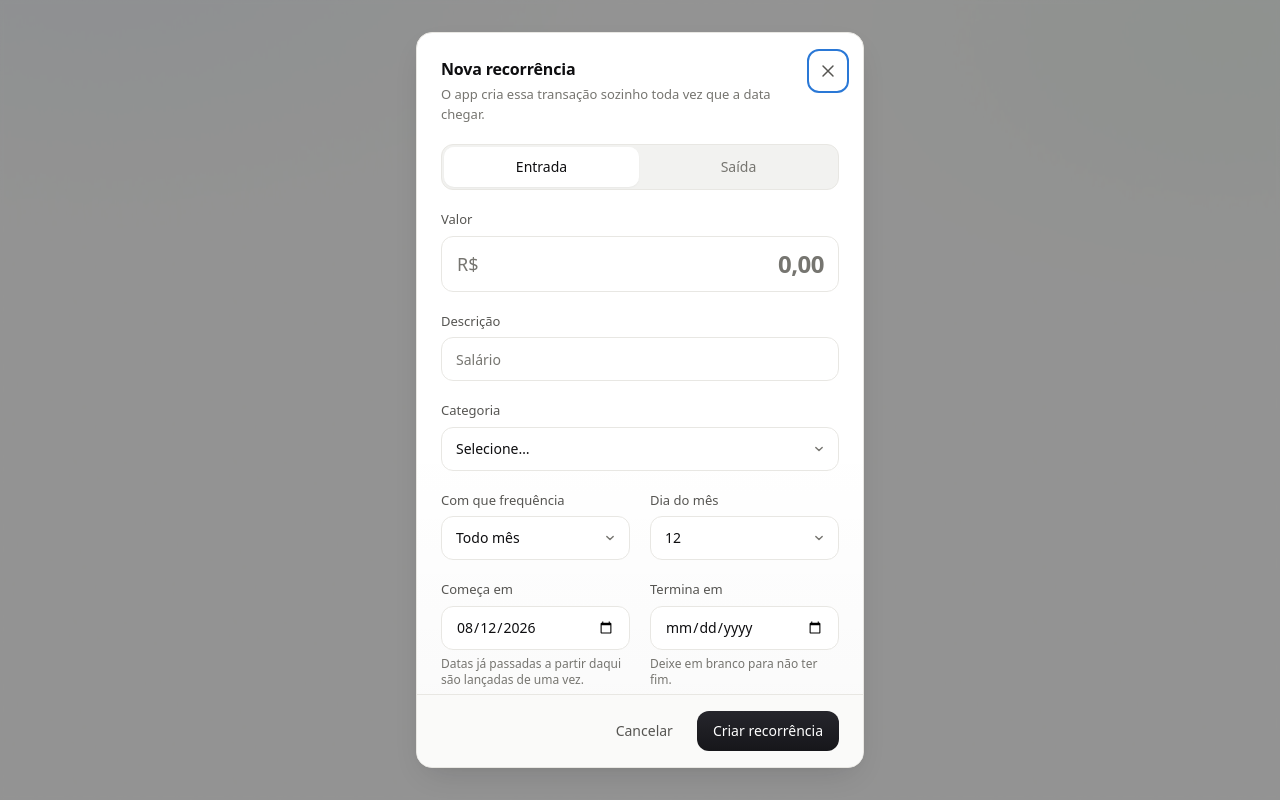
Test: diálogo de recorrência › recusa data final anterior ao início
Type "10000" into the field labelled "Valor".
click(640, 264); type("10000")  # box [441,236,839,292]
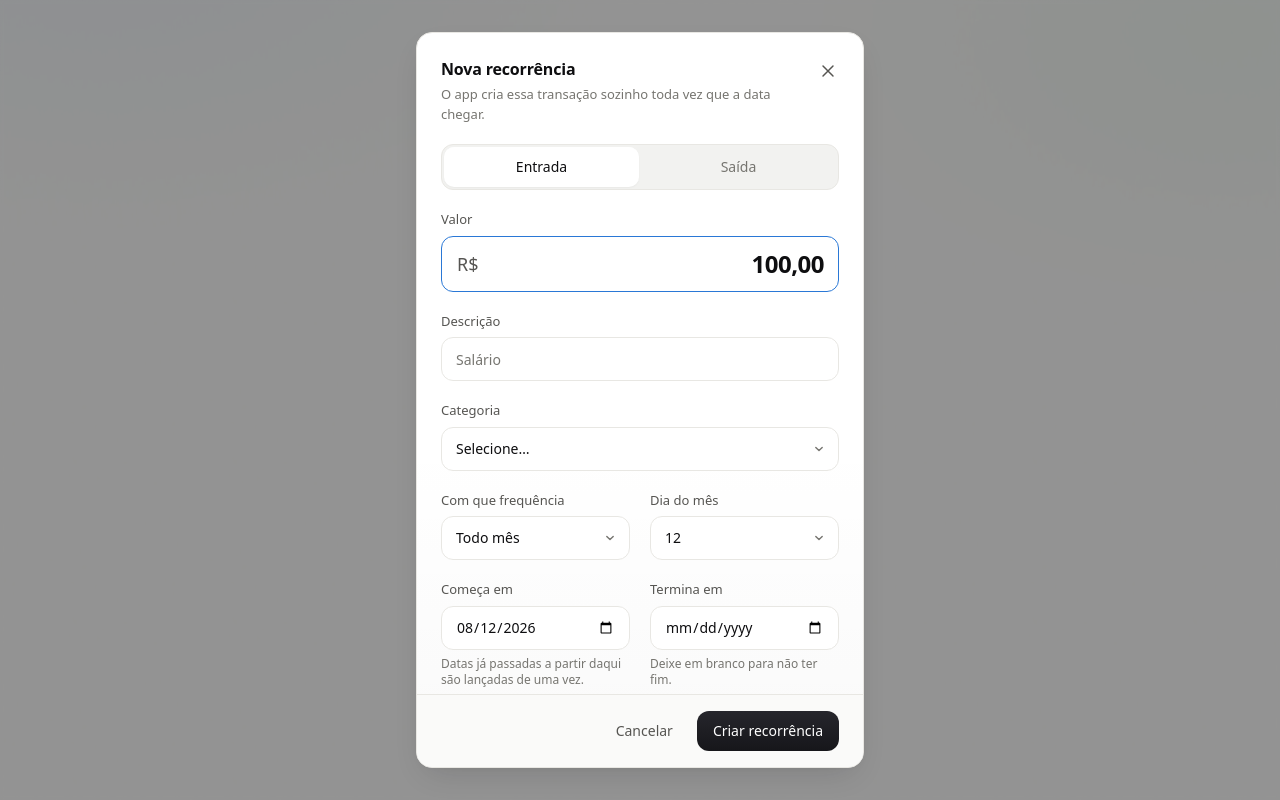
Type "Aluguel" into the field labelled "Descrição".
click(640, 359); type("Aluguel")  # box [441,337,839,381]
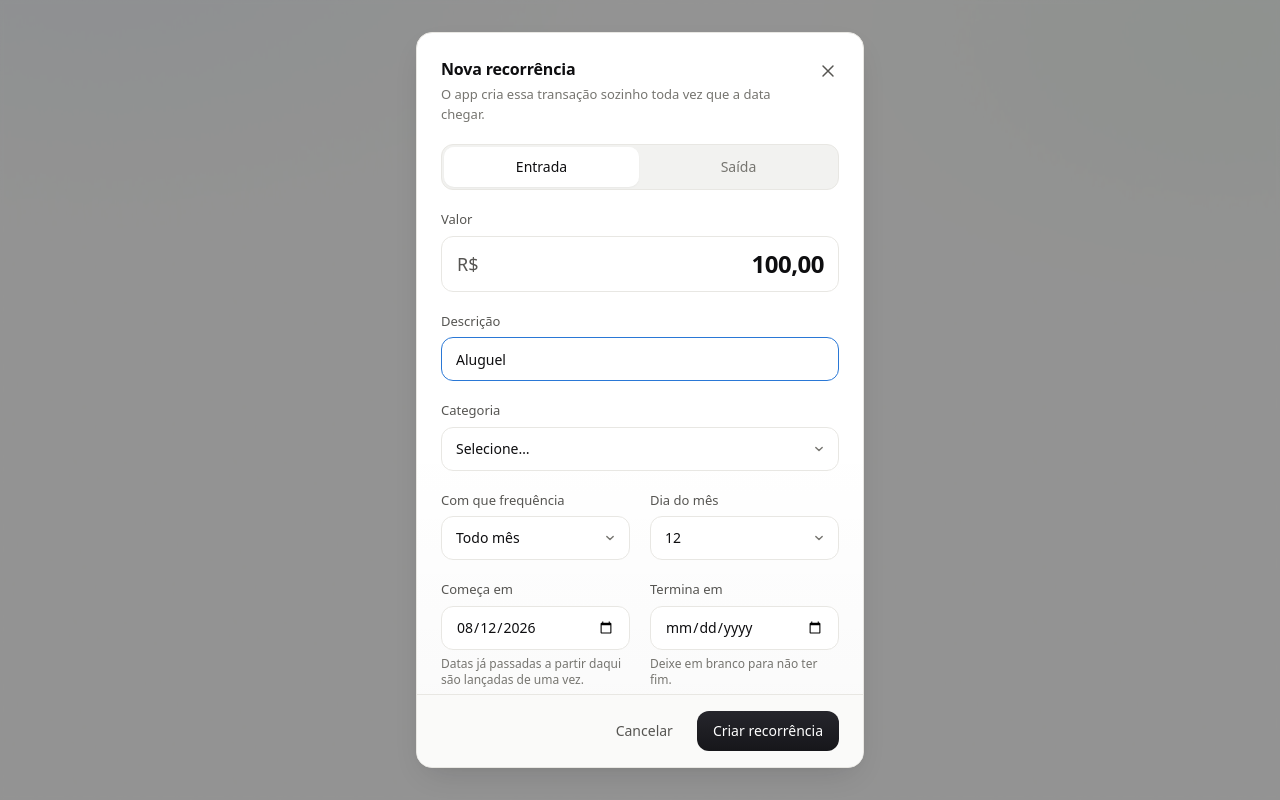
Select "Salário" in the dropdown labelled "Categoria" at [640, 448], box [441,426,839,470]
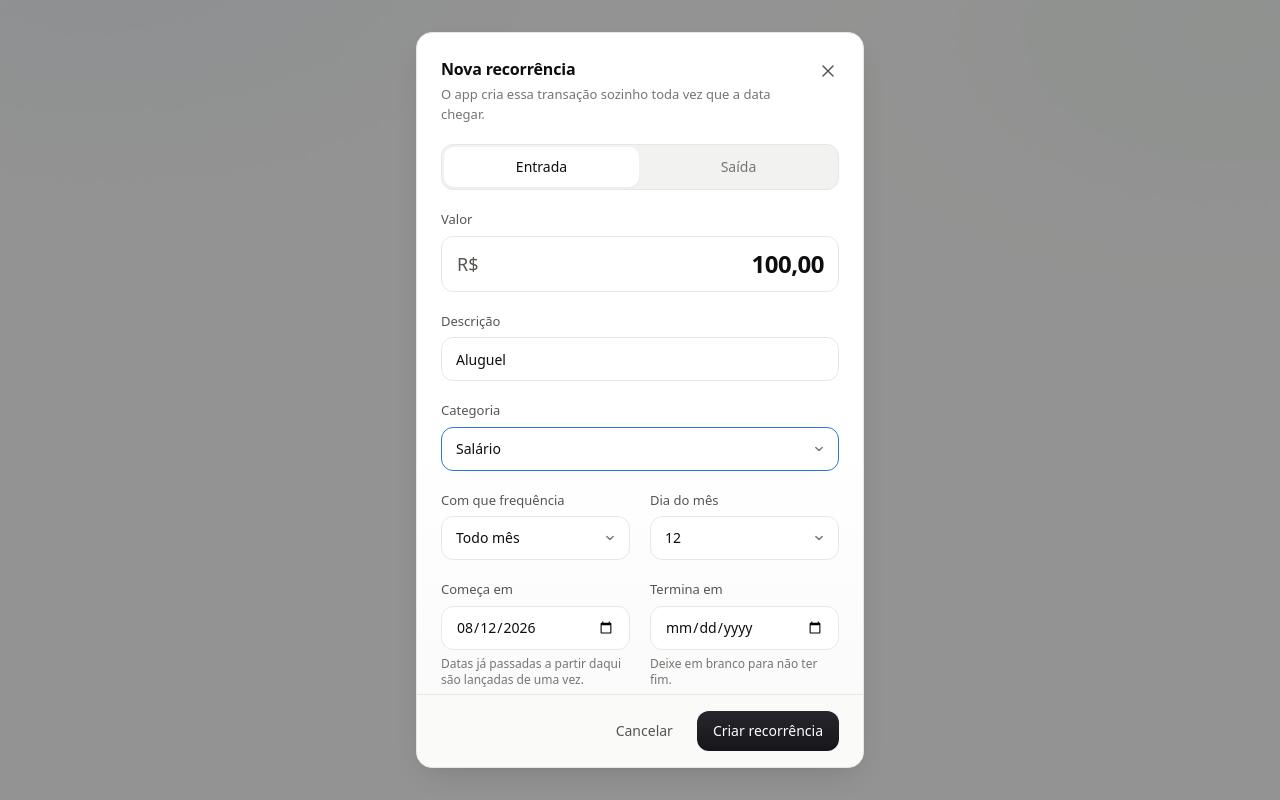
Type "2026-08-10" into the date field labelled "Começa em".
click(536, 628); type("2026-08-10")  # box [441,606,630,650]
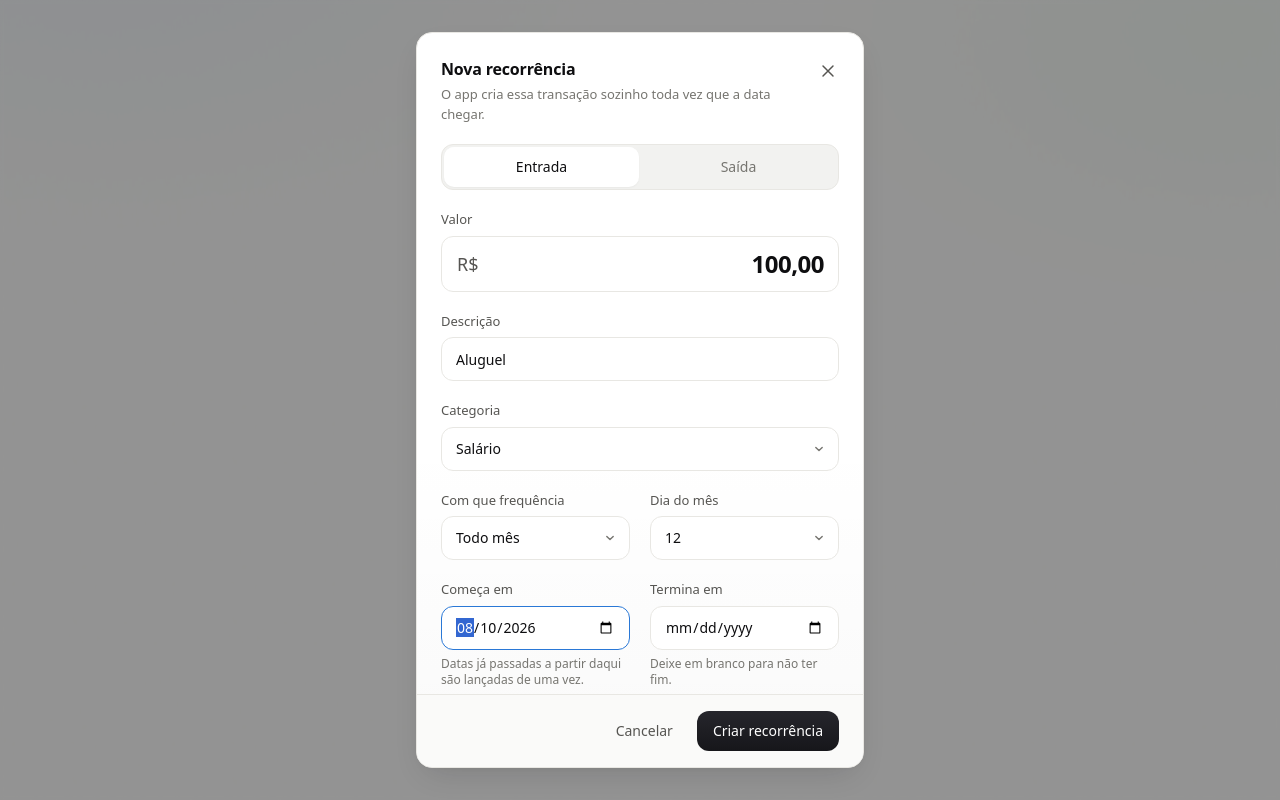
Type "2026-01-01" into the date field labelled "Termina em".
click(744, 628); type("2026-01-01")  # box [650,606,839,650]
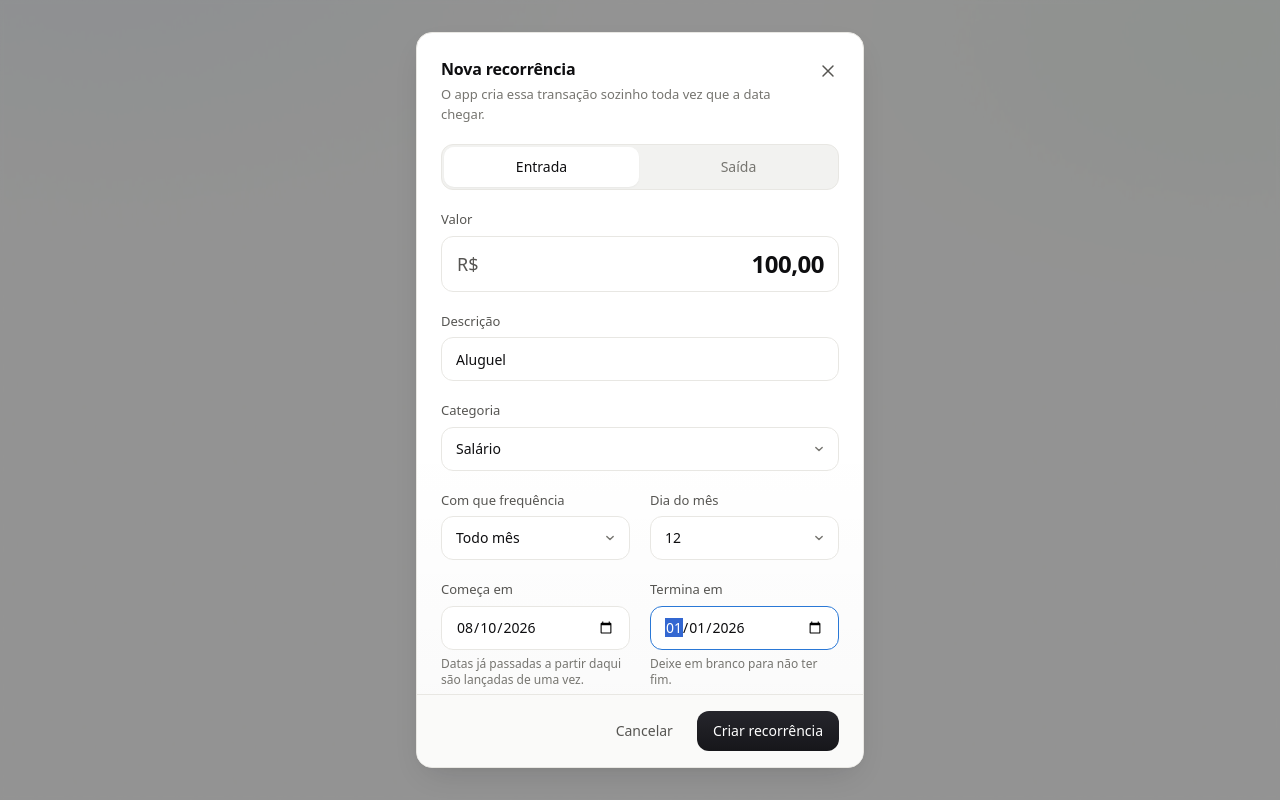
Click the button "Criar recorrência".
click(768, 731)  # box [697,711,839,751]
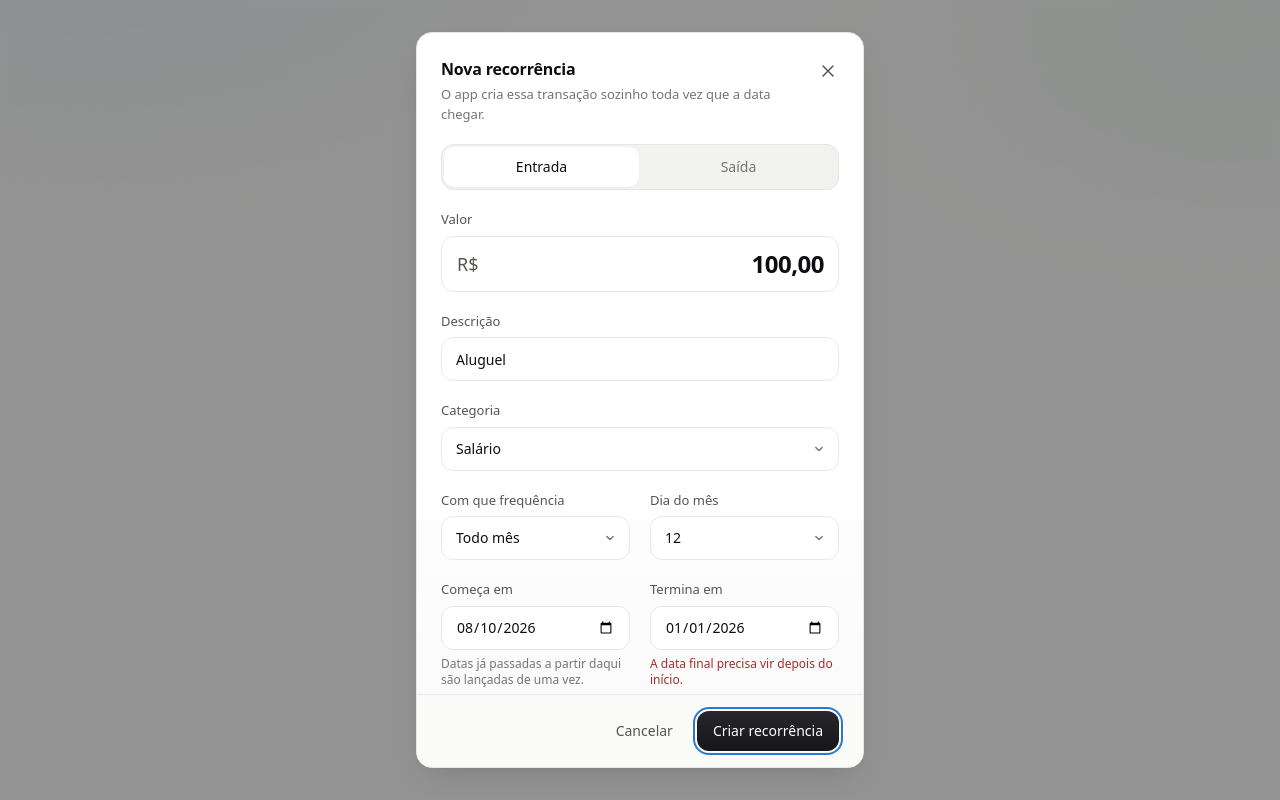
Expected: the text "A data final precisa vir depois do início." is shown, [650,656,839,688]
